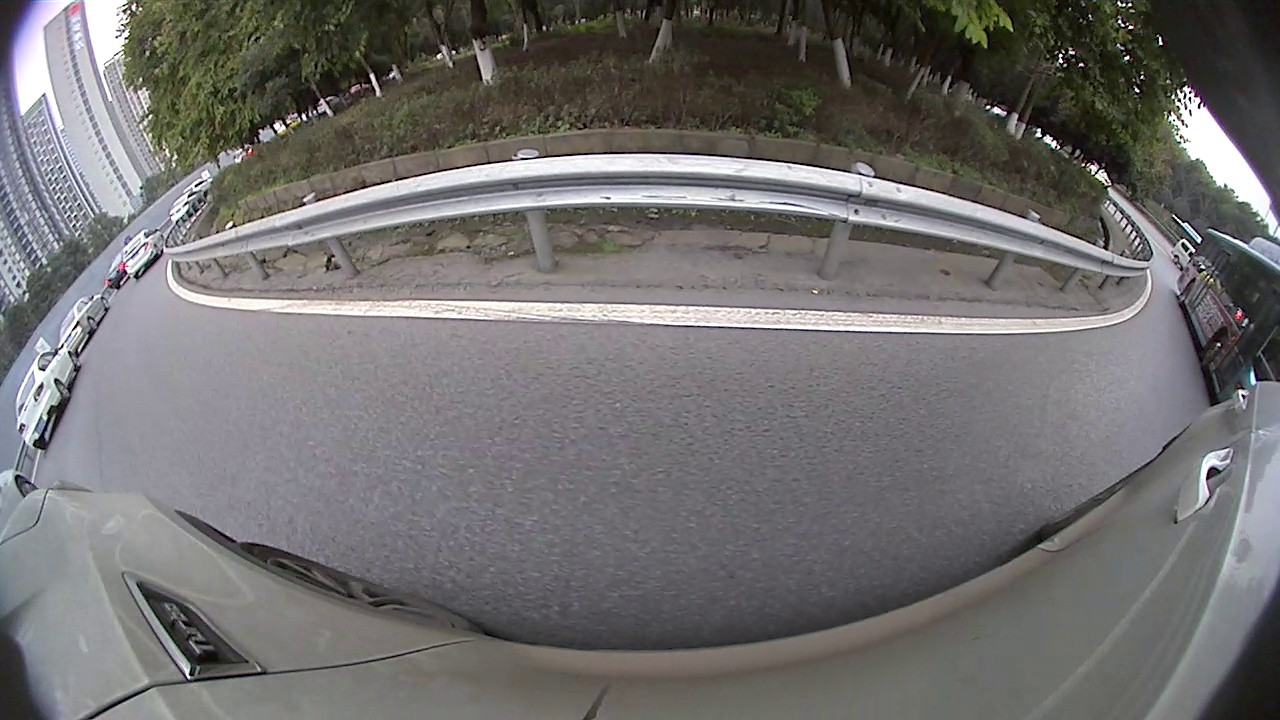bus: (1173, 225, 1279, 404)
car: (9, 348, 86, 454), (55, 286, 111, 353), (121, 225, 168, 283), (1169, 235, 1197, 271)
front: (1194, 331, 1229, 368), (69, 352, 84, 371)
rear: (1178, 278, 1194, 307), (54, 379, 74, 400), (87, 315, 102, 332)
